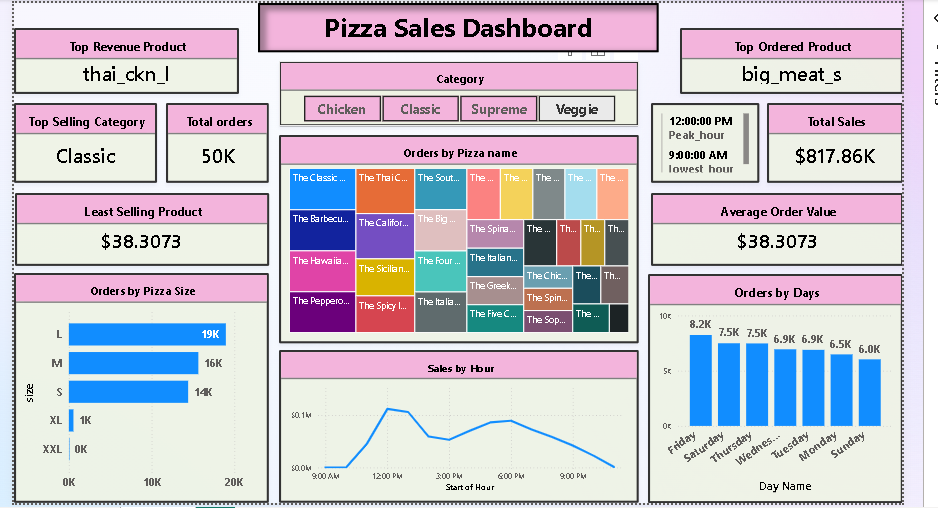

This screenshot's page, from the dashboard's own definition file:
{"tool":"powerbi","page":{"name":"Page 1","canvas":[1280,720],"ordinal":0},"visuals":[{"type":"card","title":"Total Sales","fields":{"Values":["order_details.Total_sales"]},"box":[1084.3,144,195.8,115.2],"z":0},{"type":"card","title":"Total orders","fields":{"Values":["order_details.Total_ordered"]},"box":[218.9,144,148.3,115.2],"z":1000},{"type":"barChart","title":"Orders by Pizza Size","fields":{"Category":["order_details.size"],"Y":["Sum(order_details.quantity)"]},"box":[0,388.8,367.2,331.2],"z":2000},{"type":"columnChart","title":"Orders by Days","fields":{"Category":["orders.Day Name"],"Y":["order_details.Total_ordered"]},"box":[913,390.2,367.2,329.8],"z":3000},{"type":"lineChart","title":"Sales by Hour","fields":{"Category":["orders.Start of Hour"],"Y":["Sum(order_details.Sales)"]},"box":[381.6,499.7,518.4,220.3],"z":4000},{"type":"slicer","title":"Category ","fields":{"Values":["pizza_types.category"]},"box":[381.6,83.5,518.4,93.6],"z":5000},{"type":"card","title":"Top Ordered Product","fields":{"Values":["order_details.Most_ordered_product"]},"box":[959,36,321.1,95],"z":6000},{"type":"card","title":"Top Revenue Product","fields":{"Values":["order_details.Most_sales_product"]},"box":[0,36,324,95],"z":7000},{"type":"multiRowCard","fields":{"Values":["orders.Peak_hour","orders.lowest_hour"]},"box":[917.3,144,155.5,115.2],"z":8000},{"type":"card","title":"Top Selling  Category","fields":{"Values":["order_details.Hot_selling_poduct"]},"box":[0,144,205.9,115.2],"z":9000},{"type":"treemap","title":"Orders by Pizza name","fields":{"Group":["pizza_types.name"],"Values":["Sum(order_details.quantity)"]},"box":[381.6,190.1,518.4,299.5],"z":10000},{"type":"textbox","box":[351.4,0,577.4,70.6],"z":11000},{"type":"card","title":"Least Selling Product","fields":{"Values":["order_details.least_sales_product"]},"box":[1.4,273.6,365.8,105.1],"z":12000},{"type":"card","title":"Average Order Value","fields":{"Values":["order_details.Aov"]},"box":[917.3,273.6,362.9,105.1],"z":13000}]}

Visuals, with their boxes in screenshot pixels (x1, y1, x2, y2):
"Total Sales" card: 764,100,901,180
"Total orders" card: 162,100,265,180
"Orders by Pizza Size" barChart: 10,271,265,501
"Orders by Days" columnChart: 645,272,901,501
"Sales by Hour" lineChart: 275,348,636,501
"Category " slicer: 275,58,636,123
"Top Ordered Product" card: 677,25,901,91
"Top Revenue Product" card: 10,25,235,91
multiRowCard - orders.Peak_hour x orders.lowest_hour: 648,100,756,180
"Top Selling  Category" card: 10,100,153,180
"Orders by Pizza name" treemap: 275,132,636,341
textbox: 254,0,656,49
"Least Selling Product" card: 11,190,265,264
"Average Order Value" card: 648,190,901,264
